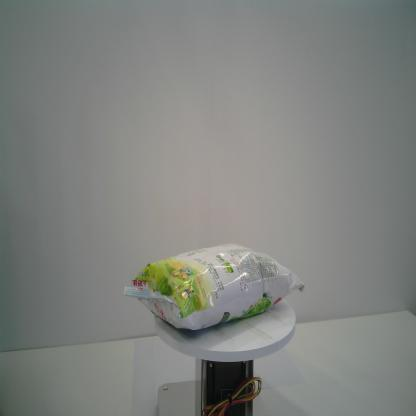Puffed Food: (122, 242, 305, 332)
